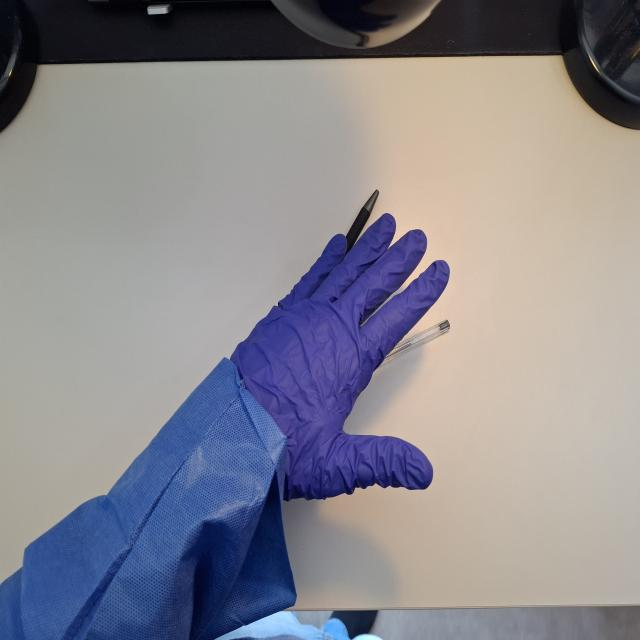glove_on: (217, 210, 453, 506)
